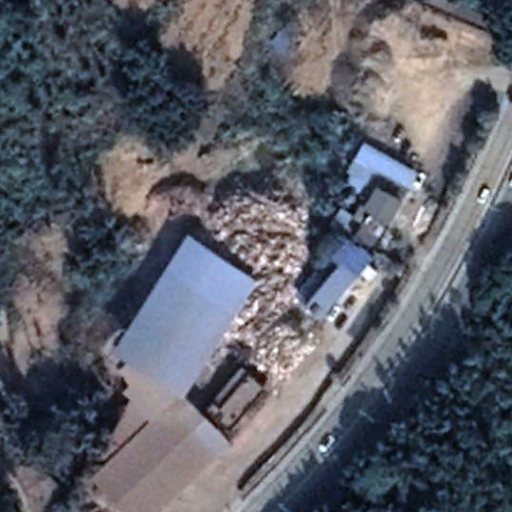msw: (202, 202, 324, 382)
